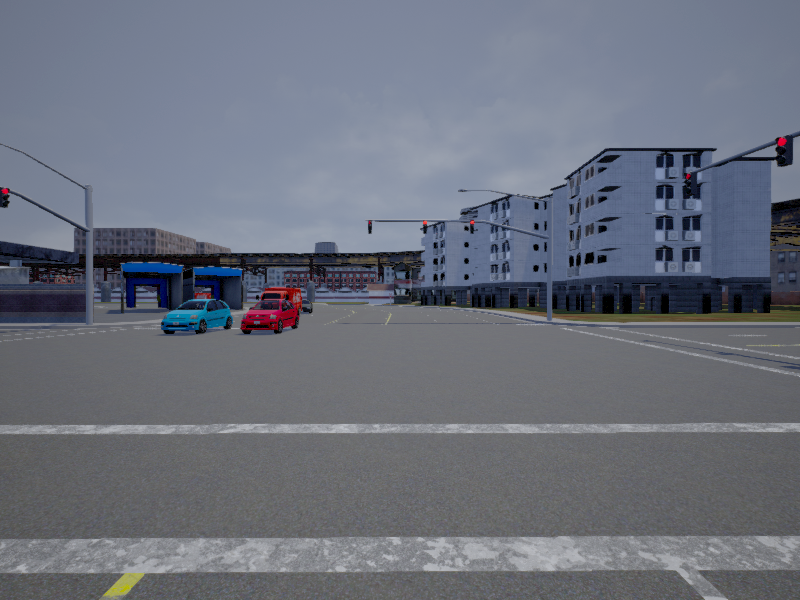Benign: (162, 296, 232, 334), (243, 300, 300, 333), (261, 287, 303, 320)
